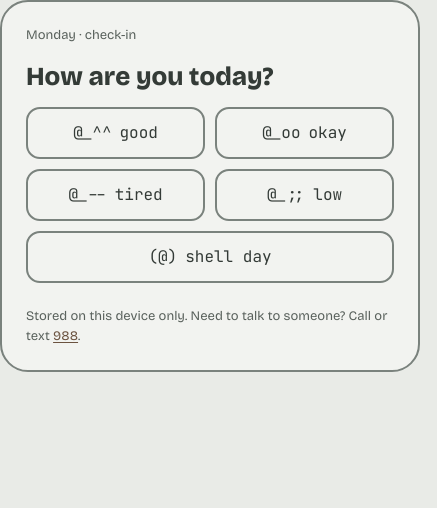
Test: CheckIn › shows Tuck's reply and art after a check-in, and saves it on the device
Click the button "@_-- tired".
click(116, 195)  # box [26, 169, 205, 221]
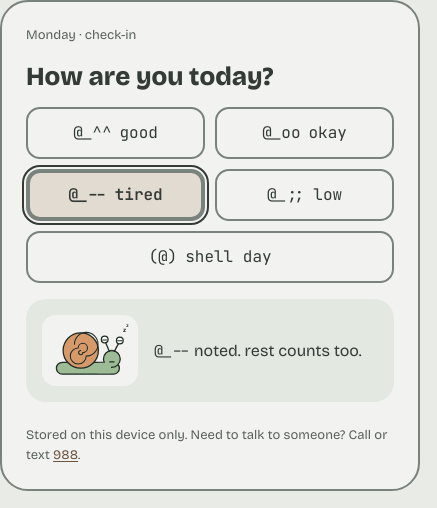
Result: the message shows "noted. rest counts too." at [194, 341, 362, 360]
Result: the picture named "tuck sleepy" is shown at [48, 321, 132, 380]
